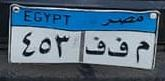3: (54, 32, 71, 60)
4: (21, 30, 36, 60)
5: (38, 36, 52, 58)
faa: (107, 35, 129, 62), (84, 36, 106, 57)
meem: (133, 39, 149, 65)
